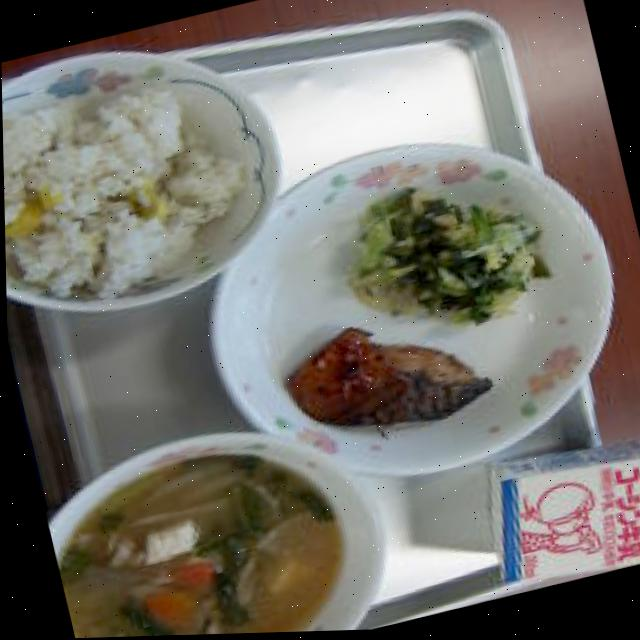熟制海鲜: (277, 310, 512, 457)
